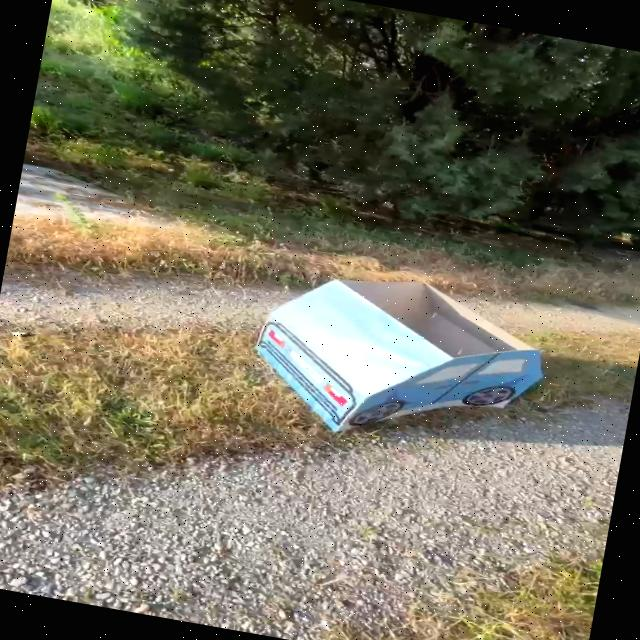blue_car: (187, 228, 585, 483)
